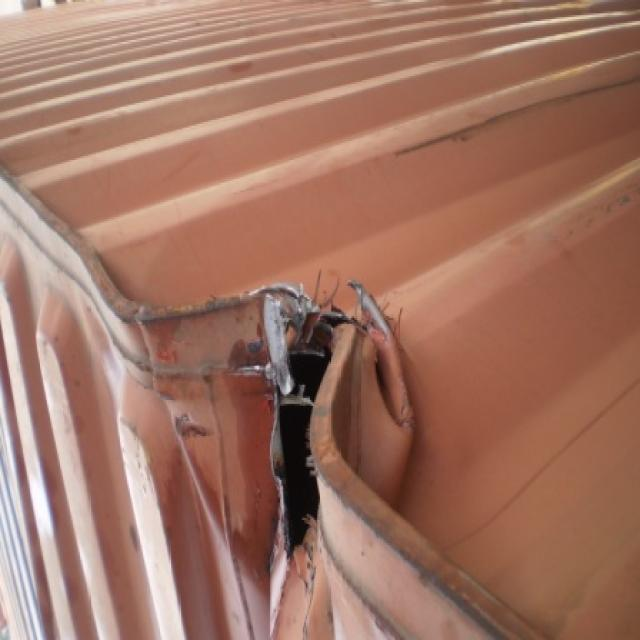dent: (149, 384, 270, 628), (307, 286, 422, 527), (88, 251, 279, 382)
